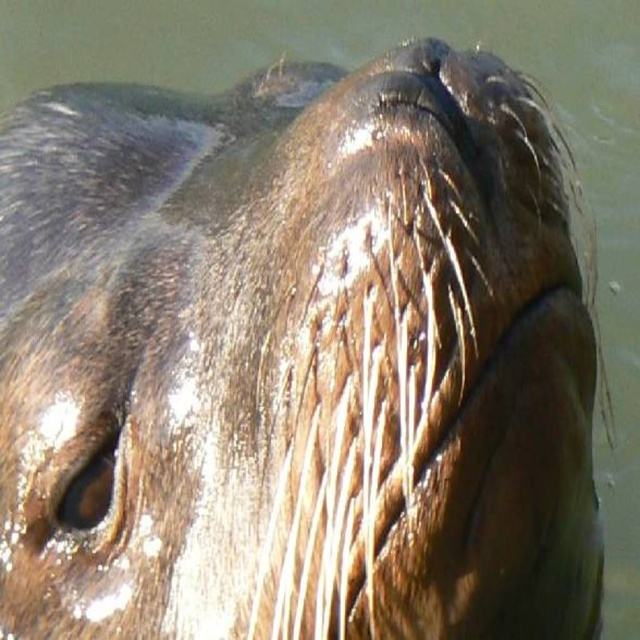Sea lion: (0, 37, 616, 638)
